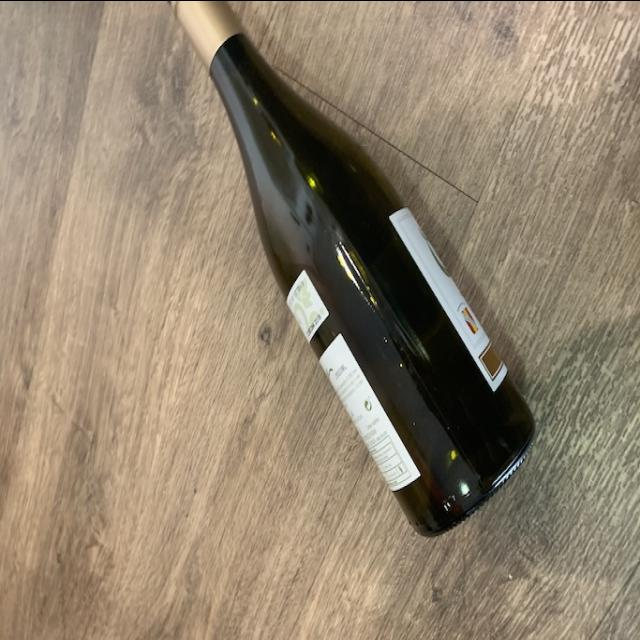litter: (164, 0, 540, 539)
